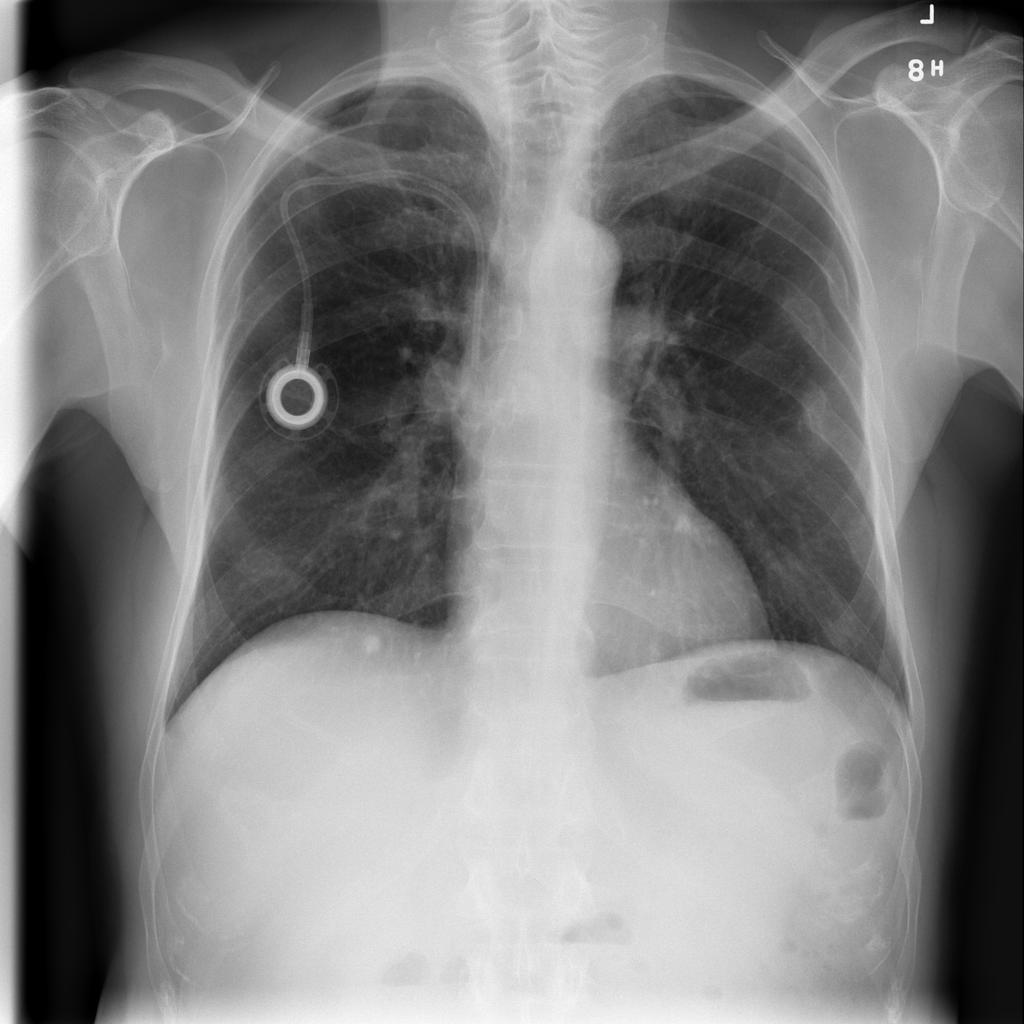nodule: (347, 618, 396, 670)
